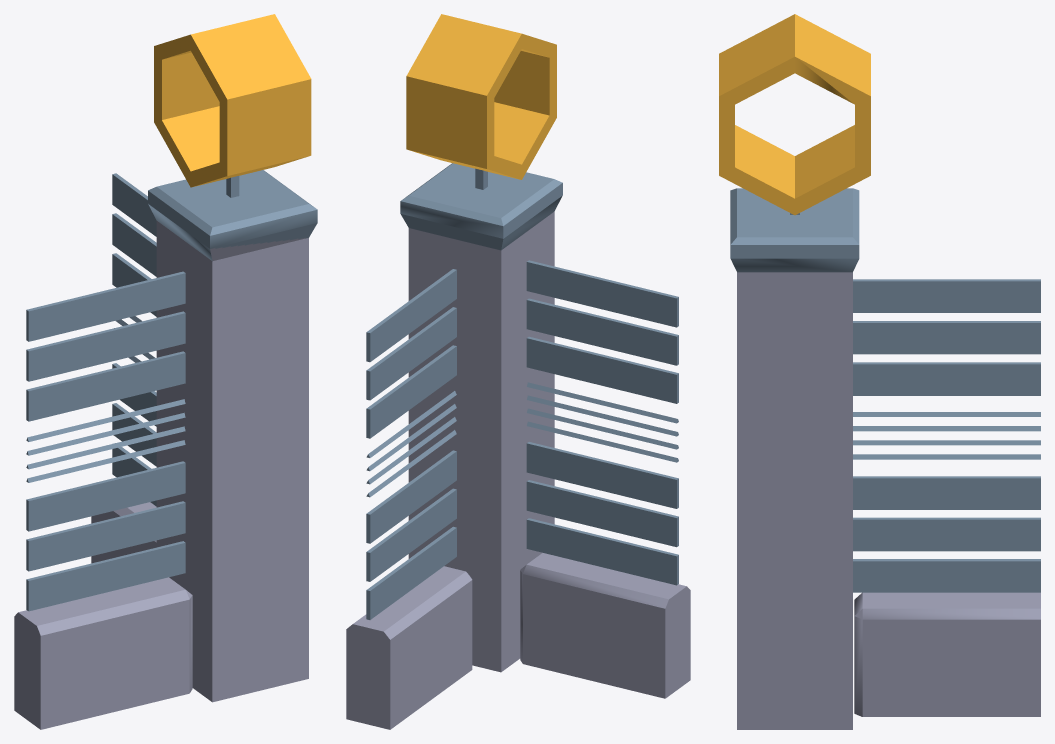
File: Fence_corner1.FBX
3 renders of one model, left to right at view 1: azimuth 30°, elevation 25°; view 2: azimuth 150°, elevation 25°; view 3: azimuth 270°, elevation 25°, orthographic. The views are drawn at different scales.
Parts seen in each view (by area): view 1: fence_corner; view 2: fence_corner; view 3: fence_corner.
Boxes of the visible parts, bbox=[...] form: fence_corner: bbox=[14, 14, 317, 729]; fence_corner: bbox=[346, 14, 690, 729]; fence_corner: bbox=[719, 14, 1040, 729].
Bounding box in the file's own units: 63.11 × 65.43 × 150.
